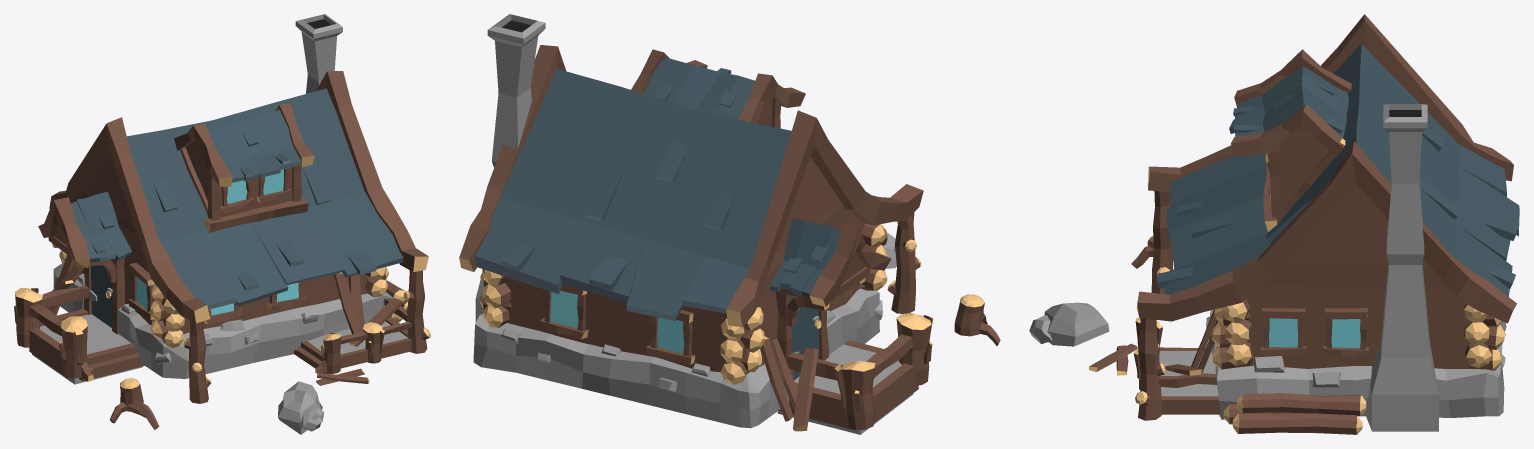
File: cabin.glb
3 renders of one model, left to right at view 1: azimuth 30°, elevation 25°; view 2: azimuth 150°, elevation 25°; view 3: azimuth 270°, elevation 25°, orthographic. The views are drawn at different scales.
Visible parts, largest first — view 1: group1959508968, group1801783179, group1958003972, group182768936, group374118918, group288122642, group834835194, group1383119677, group1731019520, group275524102, group660646036, group1127472213 (+39 smaller); view 2: group1959508968, group2091678014, group1958003972, group213256307, group1383119677, group834835194, group182768936, group374118918, group288122642, group275524102, group2010645956, group1801783179 (+26 smaller); view 3: group1959508968, group708783982, group1383119677, group182768936, group2091678014, group1958003972, group374118918, group170611882, group713214277, group1635468530, group463252065, group1585047133 (+17 smaller).
Part boxes in pixels (box(x1,y1,x2,y2)): group1959508968: box(127, 88, 403, 309); group1801783179: box(118, 293, 383, 378); group1958003972: box(49, 117, 210, 323); group182768936: box(316, 71, 428, 271); group374118918: box(208, 110, 301, 182); group288122642: box(70, 191, 131, 262); group834835194: box(80, 155, 155, 324); group1383119677: box(295, 14, 342, 93); group1731019520: box(181, 274, 368, 334); group275524102: box(38, 197, 89, 268); group660646036: box(58, 316, 87, 378); group1127472213: box(183, 320, 211, 403); group1959508968: box(475, 69, 876, 320); group2091678014: box(473, 313, 789, 428); group1958003972: box(726, 110, 923, 327); group213256307: box(505, 278, 727, 372); group1383119677: box(475, 14, 545, 322); group834835194: box(747, 157, 865, 373); group182768936: box(459, 45, 566, 271); group374118918: box(643, 57, 754, 119); group288122642: box(770, 218, 840, 297); group275524102: box(809, 222, 891, 306); group2010645956: box(720, 306, 764, 384); group1801783179: box(827, 288, 879, 354); group1959508968: box(1164, 43, 1519, 296); group708783982: box(1245, 183, 1471, 368); group1383119677: box(1366, 104, 1438, 431); group182768936: box(1136, 141, 1516, 323); group2091678014: box(1216, 321, 1506, 419); group1958003972: box(1148, 14, 1513, 192); group374118918: box(1229, 66, 1348, 138); group170611882: box(1232, 413, 1362, 434); group713214277: box(1236, 393, 1366, 416); group1635468530: box(1231, 104, 1344, 157); group463252065: box(1211, 299, 1253, 369); group1585047133: box(1135, 318, 1165, 420).
Bounding box in the file's own units: 2.92 × 2.22 × 3.01.
